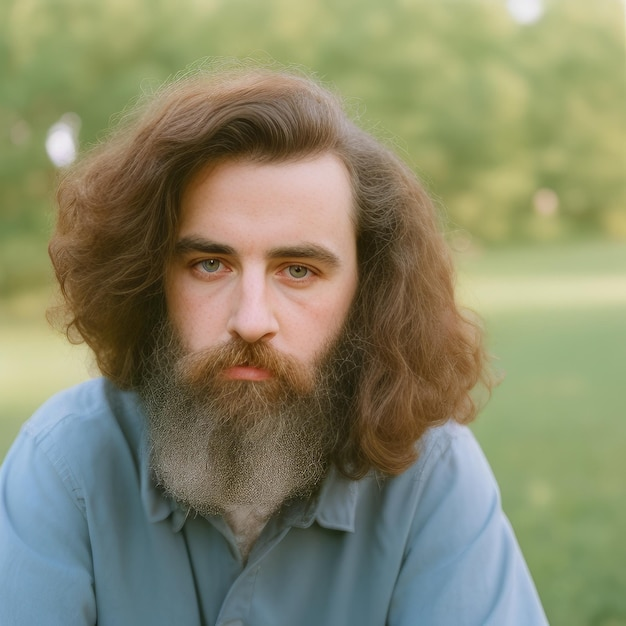young: (66, 49, 433, 509)
